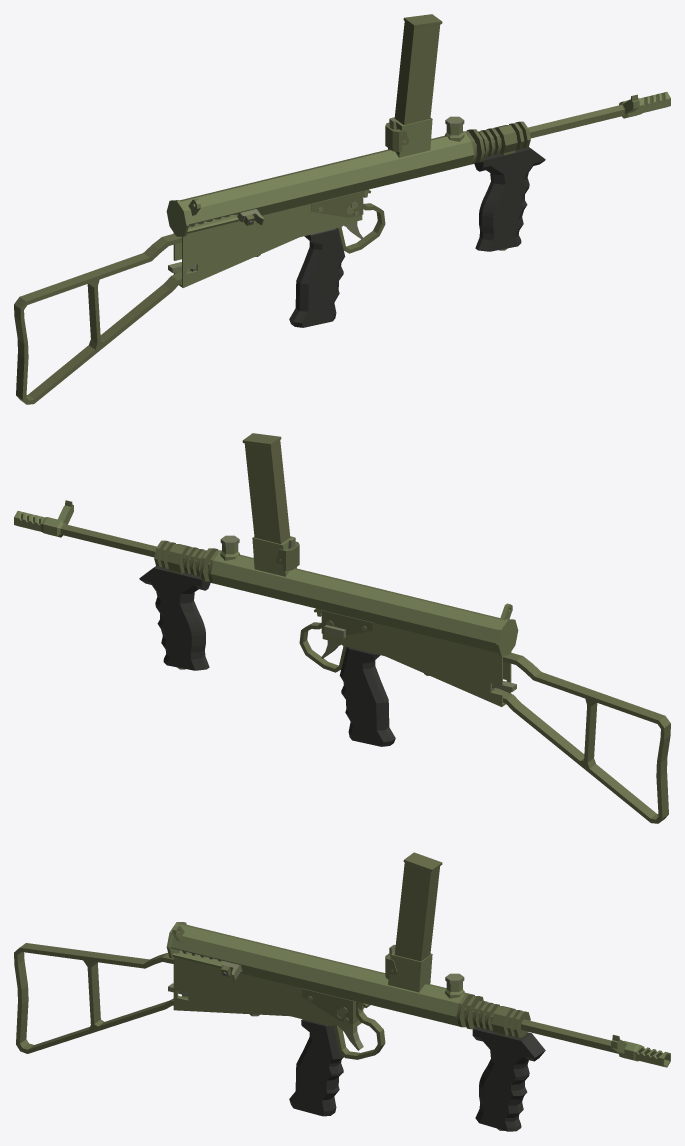
The model's file is owen.glb.
3 views of the same model, one above another, from view 1: azimuth 30°, elevation 25°; view 2: azimuth 150°, elevation 25°; view 3: azimuth 330°, elevation 25° (orthographic).
Parts seen in each view (by area): view 1: Cylinder, Cube, Cube.005, Cube.008, Cube.010, Cube.001, Cylinder.007, Cube.006, Cylinder.009, Cylinder.002, Cylinder.008, Cube.002 (+1 smaller); view 2: Cylinder, Cube, Cube.005, Cube.008, Cube.010, Cube.001, Cylinder.007, Cube.006, Cylinder.009, Cylinder.008, Cylinder.017, Cylinder.002 (+1 smaller); view 3: Cylinder, Cube, Cube.008, Cube.005, Cube.010, Cube.001, Cube.006, Cylinder.007, Cylinder.009, Cube.002, Cylinder.002, Cylinder.008 (+1 smaller).
Part boxes in pixels (x1=…): Cylinder: x1=166, y1=132, x2=473, y2=236; Cube: x1=173, y1=191, x2=362, y2=287; Cube.005: x1=14, y1=233, x2=191, y2=404; Cube.008: x1=474, y1=147, x2=545, y2=251; Cube.010: x1=394, y1=14, x2=442, y2=124; Cube.001: x1=289, y1=228, x2=345, y2=327; Cylinder.007: x1=475, y1=105, x2=624, y2=150; Cube.006: x1=388, y1=117, x2=432, y2=157; Cylinder.009: x1=463, y1=128, x2=501, y2=164; Cylinder.002: x1=311, y1=191, x2=363, y2=217; Cylinder.008: x1=493, y1=121, x2=530, y2=153; Cube.002: x1=338, y1=190, x2=385, y2=253; Cylinder: x1=211, y1=551, x2=518, y2=655; Cube: x1=322, y1=610, x2=511, y2=706; Cube.005: x1=492, y1=652, x2=670, y2=823; Cube.008: x1=139, y1=566, x2=210, y2=670; Cube.010: x1=242, y1=433, x2=290, y2=543; Cube.001: x1=339, y1=647, x2=395, y2=746; Cylinder.007: x1=60, y1=524, x2=209, y2=569; Cube.006: x1=252, y1=536, x2=296, y2=576; Cylinder.009: x1=183, y1=547, x2=221, y2=583; Cylinder.008: x1=154, y1=540, x2=191, y2=572; Cylinder.017: x1=14, y1=511, x2=65, y2=537; Cylinder.002: x1=321, y1=610, x2=373, y2=635; Cylinder: x1=166, y1=922, x2=469, y2=1026; Cube: x1=173, y1=952, x2=361, y2=1029; Cube.008: x1=472, y1=1027, x2=545, y2=1131; Cube.005: x1=14, y1=943, x2=188, y2=1053; Cube.010: x1=394, y1=852, x2=442, y2=961; Cube.001: x1=289, y1=1019, x2=343, y2=1116; Cube.006: x1=388, y1=952, x2=432, y2=992; Cylinder.007: x1=464, y1=1008, x2=618, y2=1053; Cylinder.009: x1=456, y1=994, x2=499, y2=1030; Cube.002: x1=333, y1=1001, x2=385, y2=1059; Cylinder.002: x1=302, y1=988, x2=363, y2=1024; Cylinder.008: x1=491, y1=1006, x2=530, y2=1037.
Size of the model in its own units: 0.8118 by 0.3436 by 0.0554.
